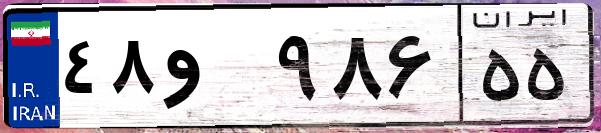4: (57, 26, 110, 100)
5: (475, 38, 525, 113), (525, 38, 570, 115)
6: (385, 28, 445, 110)
8: (330, 28, 385, 110), (110, 28, 158, 98)
9: (270, 28, 330, 110)
و: (158, 20, 270, 120)
